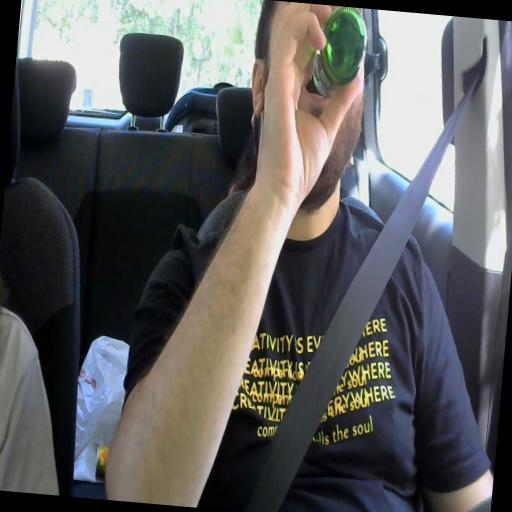Drinking: (252, 0, 366, 207)
